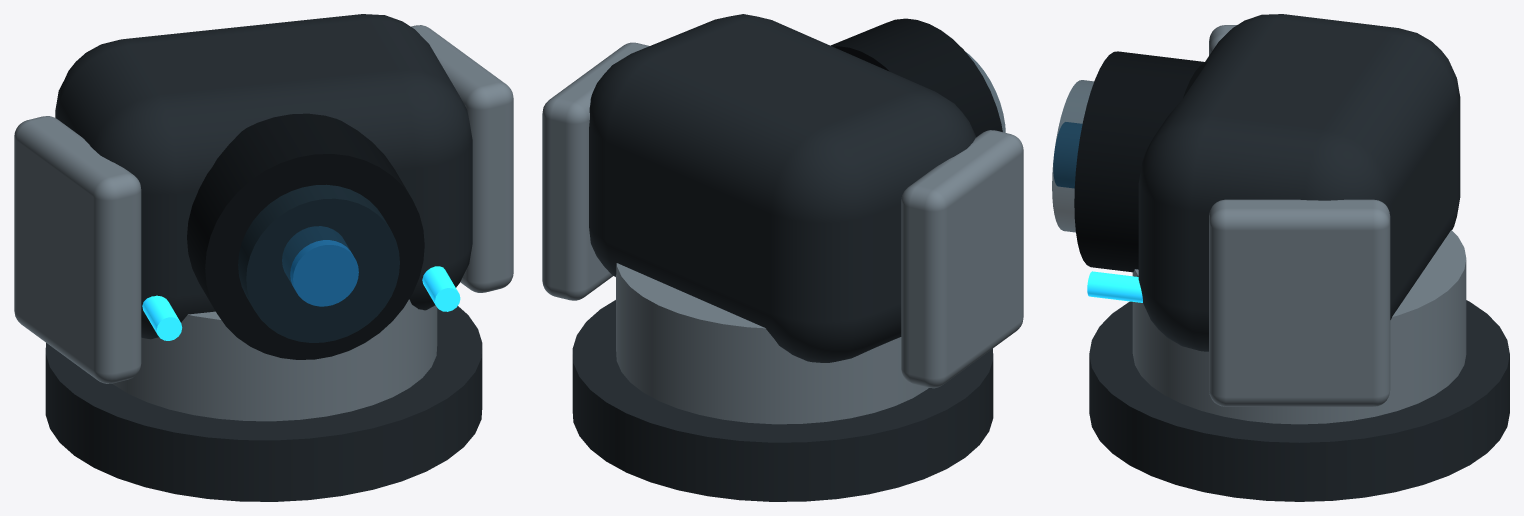
Rendered from ptz-camera.glb.
3 renders of one model, left to right at view 1: azimuth 30°, elevation 25°; view 2: azimuth 150°, elevation 25°; view 3: azimuth 270°, elevation 25°, orthographic. The views are drawn at different scales.
Visible parts, largest first — view 1: Camera head, Lens barrel, PTZ base, Tilt yoke (×2), Pan motor, Optical zoom lens, Lens element, Camera status (×2); view 2: Camera head, Tilt yoke (×2), PTZ base, Pan motor, Lens barrel; view 3: Camera head, PTZ base, Tilt yoke, Pan motor, Lens barrel, Optical zoom lens, Lens element, Camera status.
Part boxes in pixels (x1,y1,x2,y2): Camera head: (55,14,472,339); Lens barrel: (187,113,424,359); PTZ base: (45,306,482,501); Tilt yoke (×2): (14,25,513,383); Pan motor: (112,299,437,421); Optical zoom lens: (238,184,399,342); Lens element: (282,226,358,306); Camera status (×2): (142,266,460,340); Camera head: (589,14,975,362); Tilt yoke (×2): (542,42,1023,388); PTZ base: (572,300,993,501); Pan motor: (616,263,928,424); Lens barrel: (830,18,1002,137); Camera head: (1138,14,1460,351); PTZ base: (1089,300,1509,501); Tilt yoke: (1209,199,1390,406); Pan motor: (1132,230,1466,424); Lens barrel: (1074,51,1207,272); Optical zoom lens: (1052,80,1094,232); Lens element: (1053,122,1082,187); Camera status: (1087,271,1142,302).
Size of the model in its own units: 1.28 by 1.03 by 1.26.
